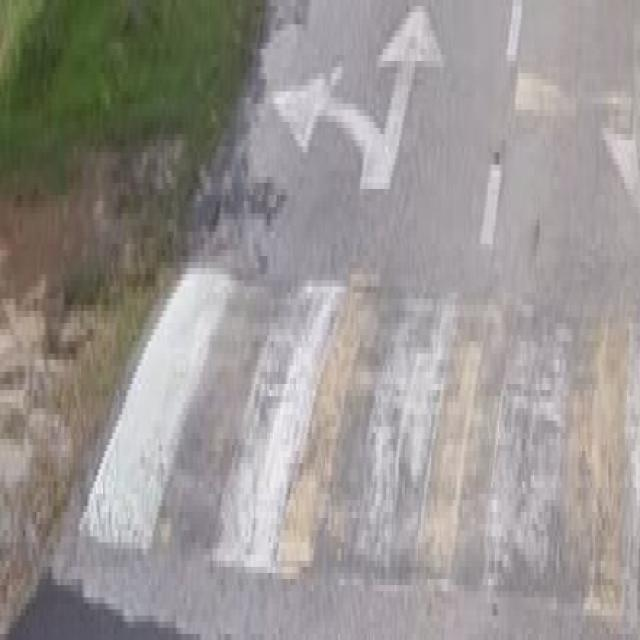speed-bump: (90, 213, 640, 640)
